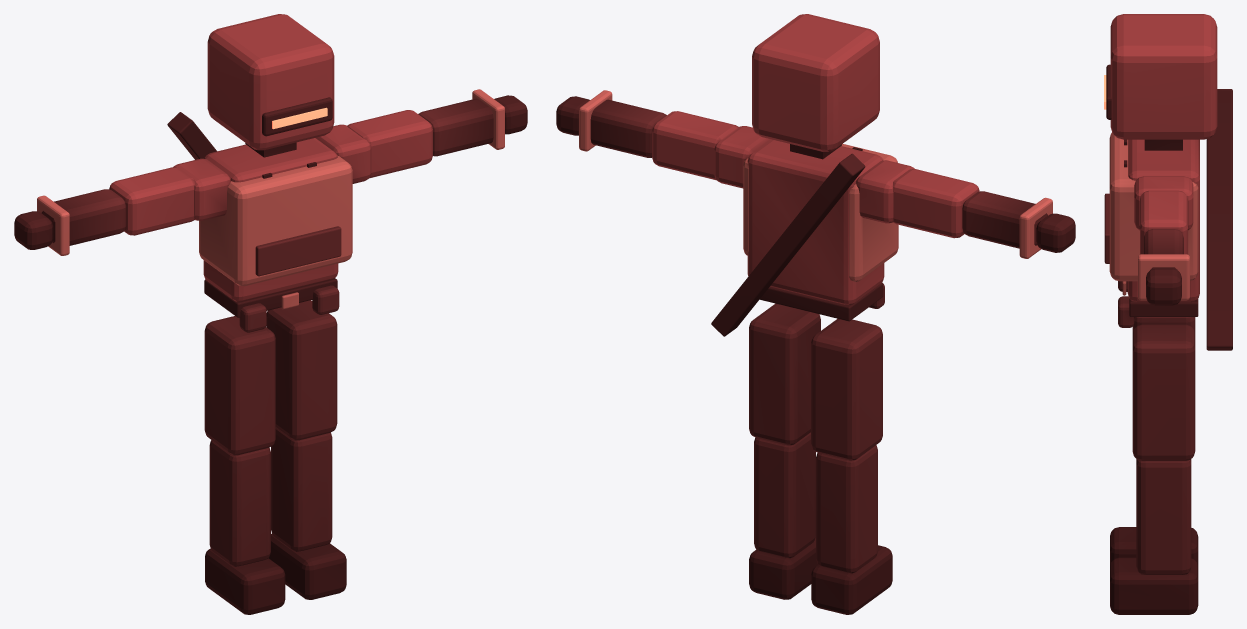
File: enemy_guard.glb
The picture shows the model from 3 angles, left to right: view 1: azimuth 30°, elevation 25°; view 2: azimuth 150°, elevation 25°; view 3: azimuth 270°, elevation 25°; orthographic projection.
Visible parts, largest first — view 1: guard; view 2: guard; view 3: guard.
Part boxes in pixels (bbox=[...]): guard: bbox=[14, 14, 527, 614]; guard: bbox=[556, 14, 1075, 614]; guard: bbox=[1104, 14, 1232, 614].
Bounding box in the file's own units: 1.8 × 1.89 × 0.392.
